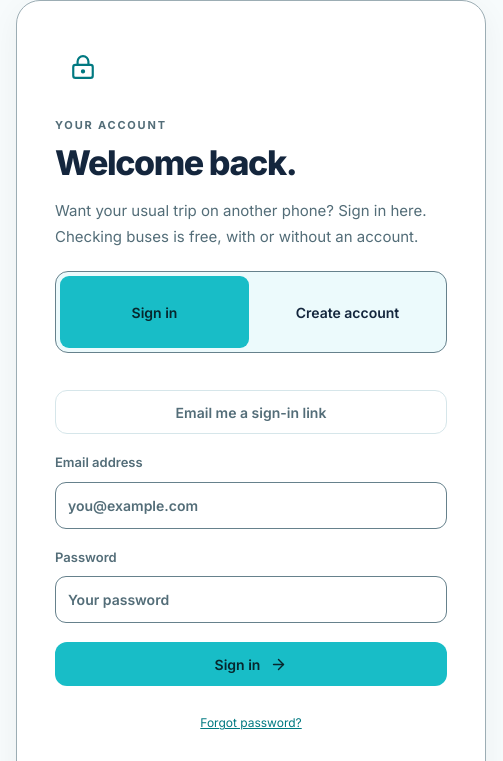
Scenario: requests a passwordless sign-in link without sending a password or commute metadata
Expected: the heading "Welcome back." is shown, [55,142,296,183]
In the field labelled "Email address": (251, 505) [55,482,447,529], type "employee@example.com"
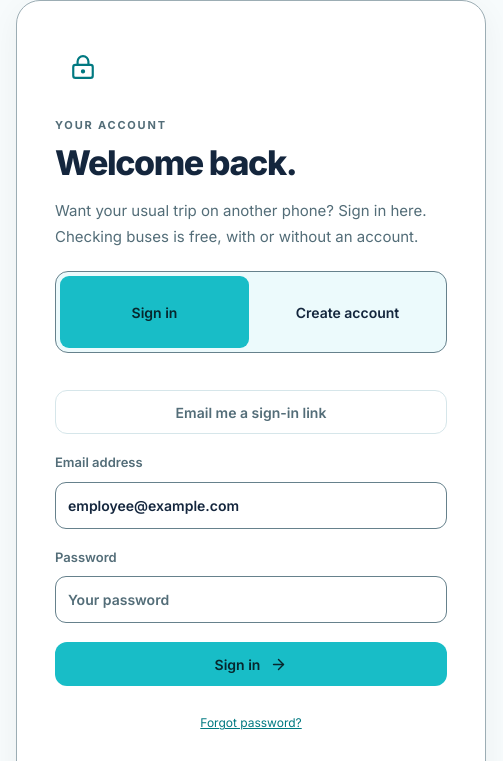
Click the button "Email me a sign-in link": (251, 412) [55,390,447,434]
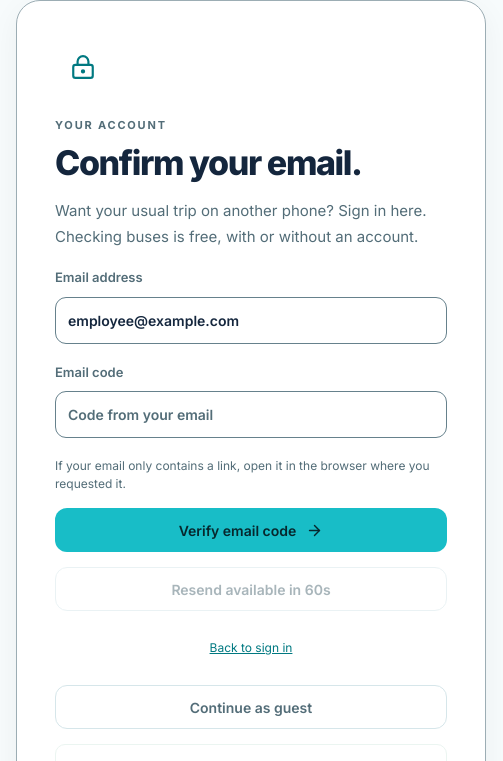
Now the heading "Confirm your email." is shown, box [55,142,362,183]
